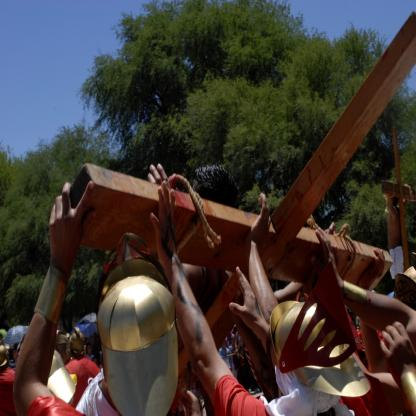Helmet: (95, 260, 184, 416), (263, 293, 372, 403), (4, 324, 32, 370), (73, 314, 103, 355)
